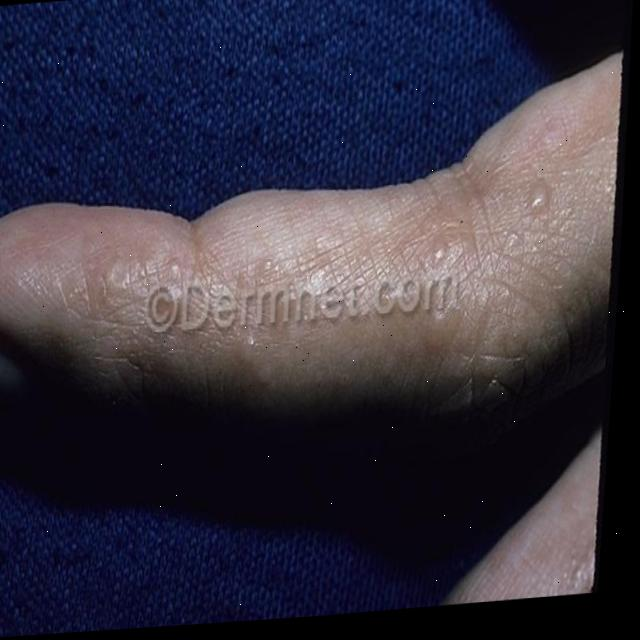Eczema: (207, 177, 601, 372)
